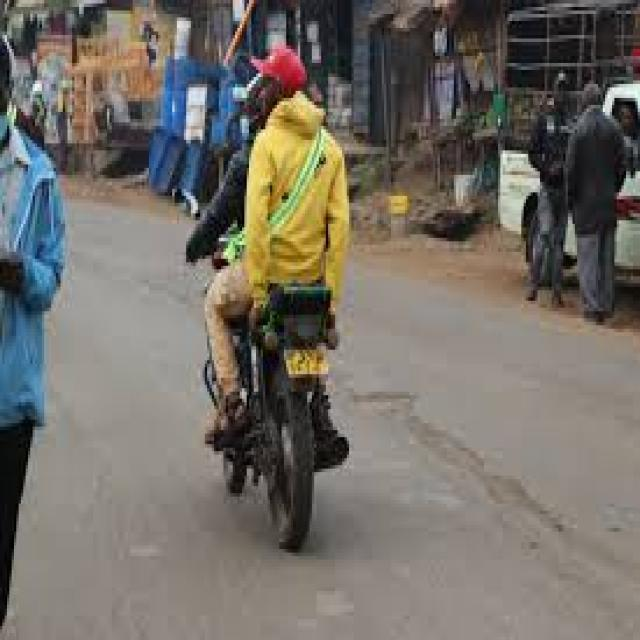bodaboda: (133, 143, 417, 598)
